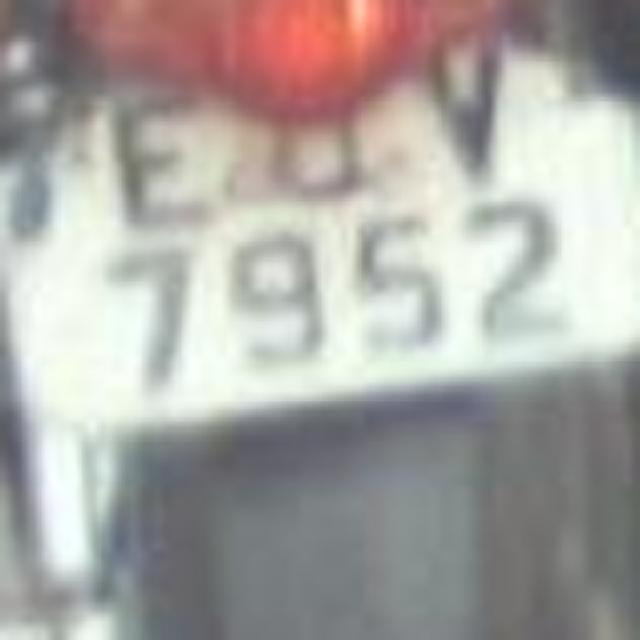2: (440, 168, 588, 348)
5: (336, 189, 456, 356)
7: (76, 232, 216, 400)
9: (204, 208, 344, 384)
D: (228, 69, 388, 216)
N: (395, 12, 520, 196)
